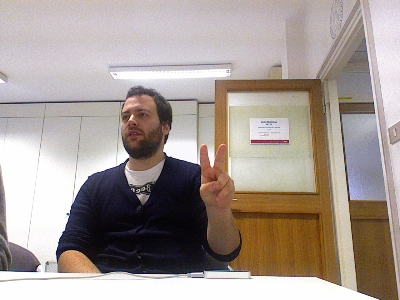剪刀: (196, 142, 237, 207)
